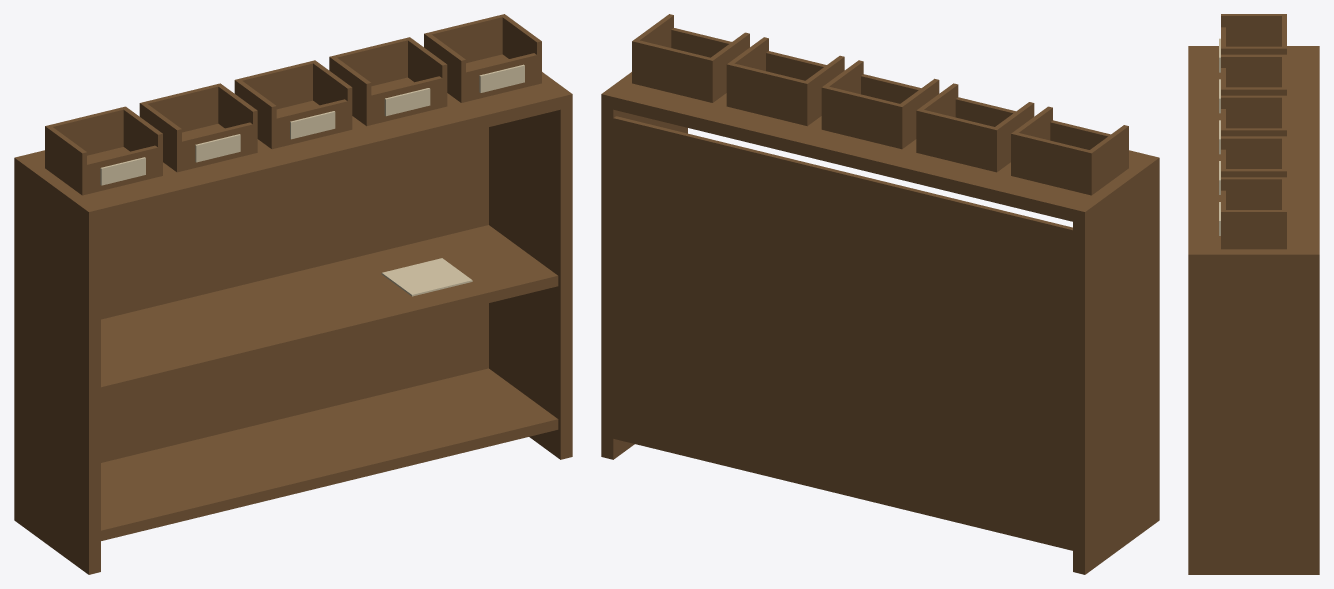
The model's file is Prop_YTM_CardShelf_LOD1.glb.
3 views of the same model, side by side, from view 1: azimuth 30°, elevation 25°; view 2: azimuth 150°, elevation 25°; view 3: azimuth 270°, elevation 25° (orthographic). The views are drawn at different scales.
Visible parts, largest first — view 1: Prop_YTM_CardShelf; view 2: Prop_YTM_CardShelf; view 3: Prop_YTM_CardShelf.
Part boxes in pixels (x1,y1,x2,y2): Prop_YTM_CardShelf: (14, 14, 572, 574); Prop_YTM_CardShelf: (601, 14, 1159, 574); Prop_YTM_CardShelf: (1188, 14, 1319, 574).
Size of the model in its own units: 1.2 by 0.96 by 0.32.
